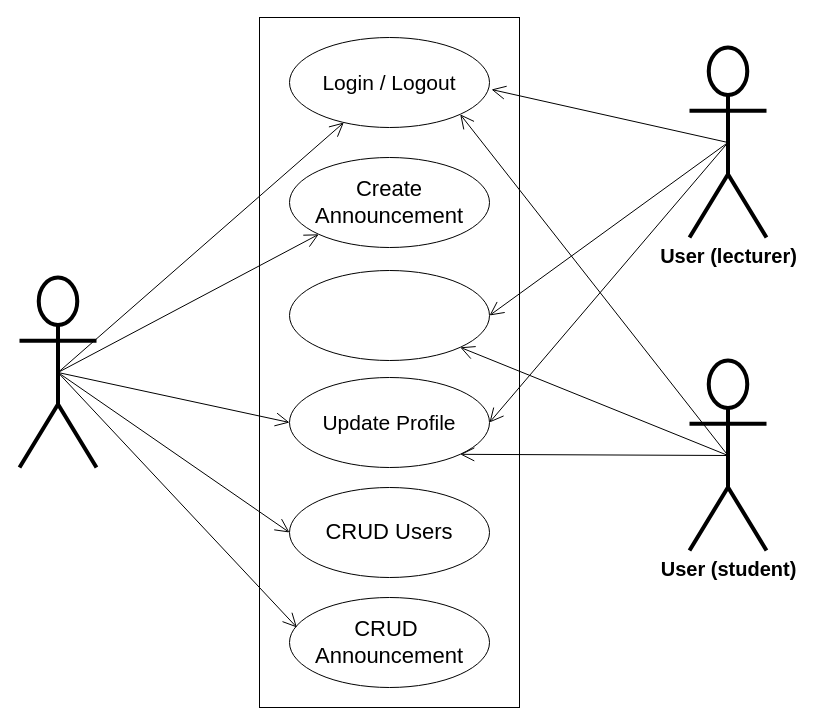
Image size: 813x725. Some labels were removed from this diagram. Each missing label, with the centre of its shape:
"Admin" belongs at pixel 57 372.
"View Announcement" belongs at pixel 389 315.
